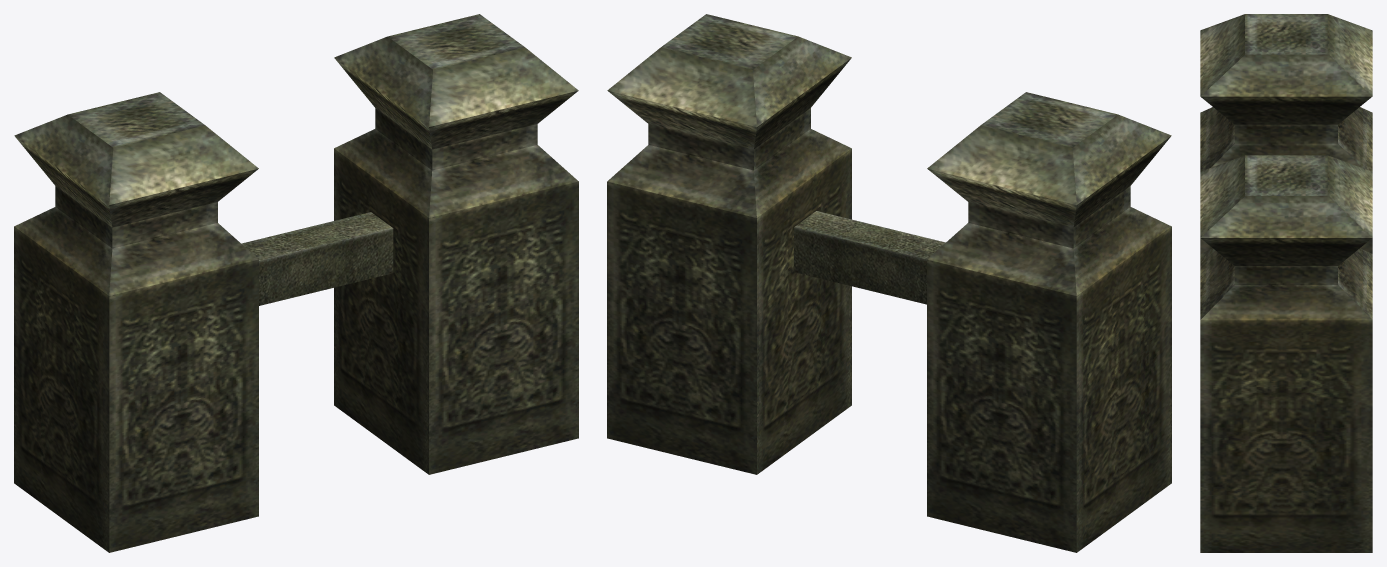
File: devilcave_door_rock.glb
The picture shows the model from 3 angles, left to right: view 1: azimuth 30°, elevation 25°; view 2: azimuth 150°, elevation 25°; view 3: azimuth 270°, elevation 25°; orthographic projection. The views are drawn at different scales.
Parts seen in each view (by area): view 1: Object01; view 2: Object01; view 3: Object01.
Part boxes in pixels (box(x1,y1,x2,y2)): Object01: box(14, 14, 578, 552); Object01: box(607, 14, 1171, 552); Object01: box(1200, 14, 1372, 552).
Bounding box in the file's own units: 1.7 × 1.31 × 0.5964.
Materials: 1 (1 with a texture image).
